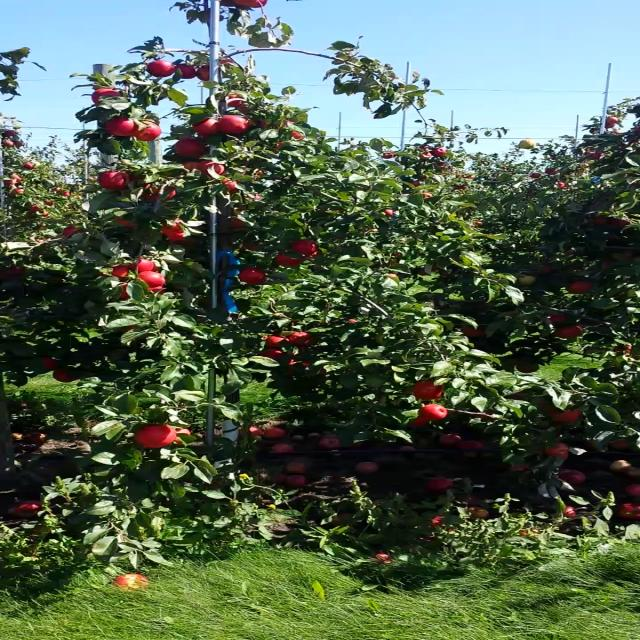apple: (131, 424, 176, 448), (172, 139, 210, 159), (217, 116, 251, 136), (104, 118, 137, 138), (158, 220, 188, 242), (542, 405, 582, 421), (412, 381, 443, 401), (99, 172, 132, 190), (92, 89, 124, 107), (144, 186, 176, 204), (135, 120, 161, 142), (238, 268, 268, 286), (136, 270, 165, 288), (275, 252, 302, 270), (291, 240, 321, 256), (551, 323, 584, 337), (421, 404, 449, 420), (146, 61, 172, 78), (198, 161, 225, 177), (132, 257, 159, 273), (286, 358, 310, 376), (288, 332, 316, 347), (566, 281, 598, 294), (50, 368, 76, 384), (197, 118, 220, 136), (543, 443, 566, 459), (264, 335, 290, 349), (220, 178, 240, 196), (172, 64, 194, 80), (114, 216, 140, 229), (257, 350, 285, 362), (590, 214, 615, 227), (172, 428, 190, 446), (110, 265, 132, 279), (194, 65, 210, 81), (239, 1, 267, 10), (225, 94, 242, 107), (516, 362, 538, 372), (185, 161, 203, 173), (615, 344, 633, 356), (547, 312, 568, 322), (65, 227, 81, 239), (271, 141, 284, 155), (412, 416, 430, 426), (467, 327, 485, 337), (6, 267, 23, 277), (44, 357, 56, 371), (119, 283, 130, 297), (290, 130, 304, 140), (146, 286, 163, 294), (121, 326, 143, 332), (514, 276, 530, 284), (238, 98, 246, 111), (233, 220, 247, 227), (620, 217, 630, 225), (284, 120, 297, 126), (246, 240, 255, 248), (348, 323, 362, 328), (262, 120, 270, 128), (601, 262, 611, 268)
